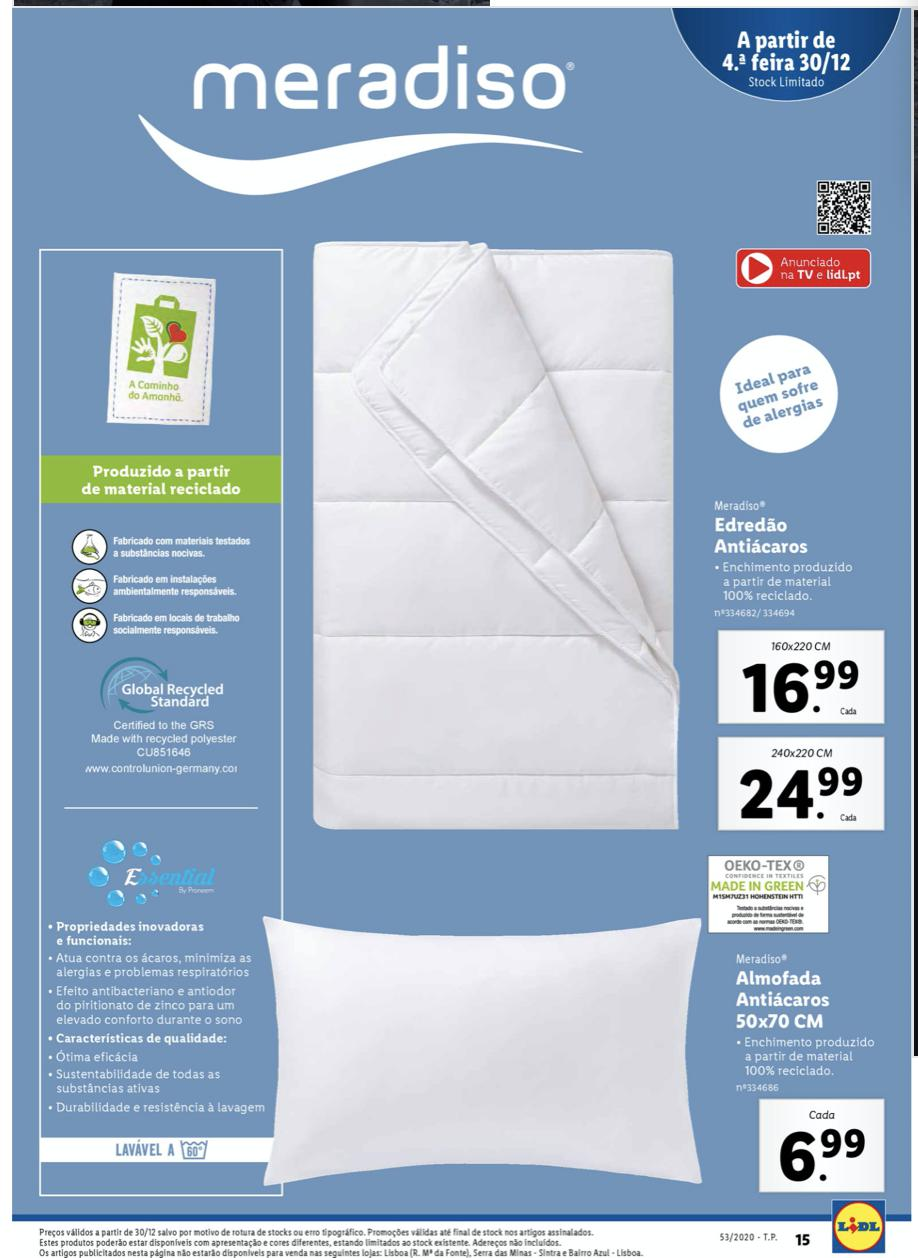name: (732, 967, 832, 1033), (715, 512, 815, 559)
price: (729, 765, 868, 822), (738, 655, 866, 715), (774, 1125, 871, 1189)
product: (301, 233, 896, 837), (234, 898, 910, 1194)
